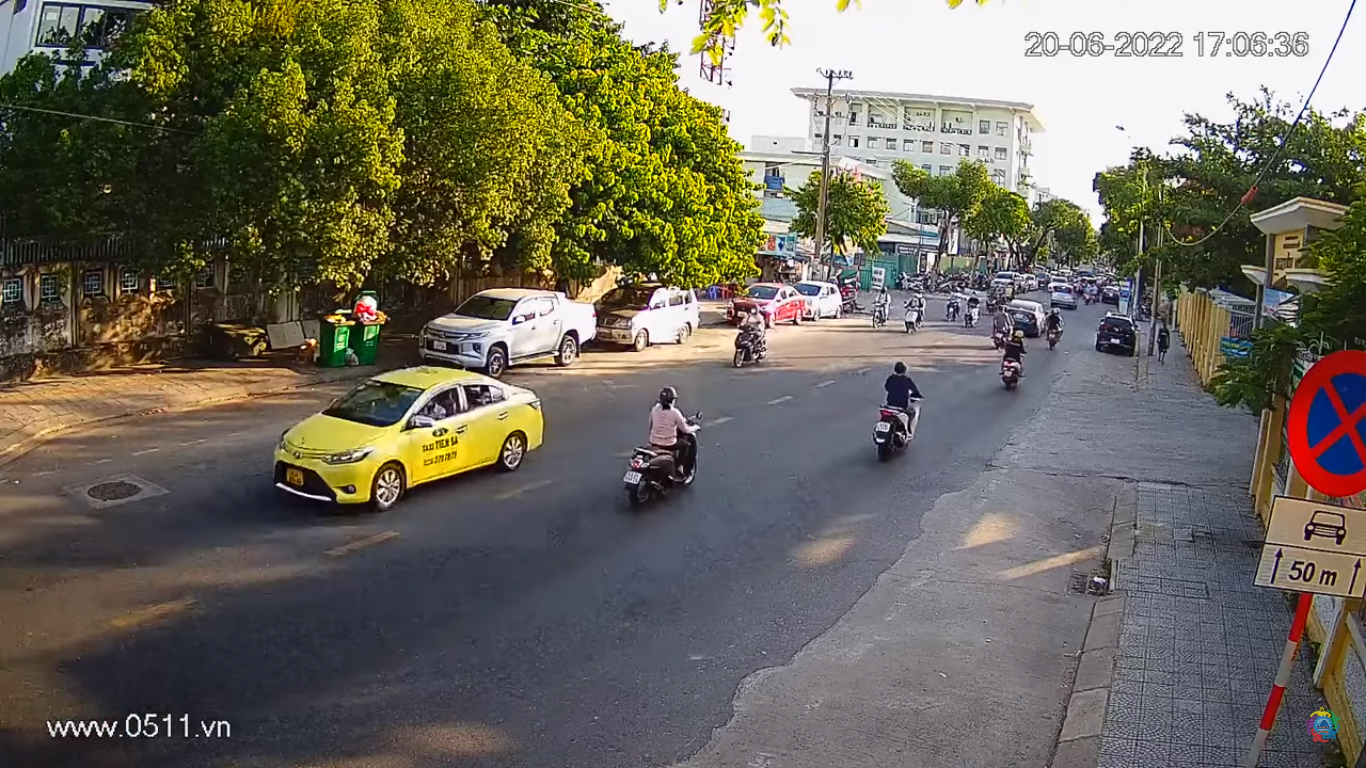car: (272, 359, 551, 523)
